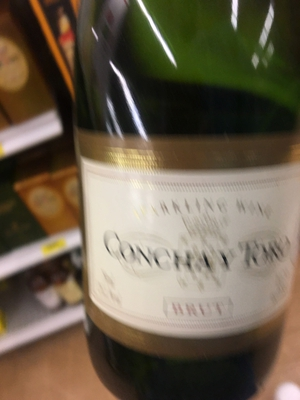brut: (61, 13, 300, 391)
